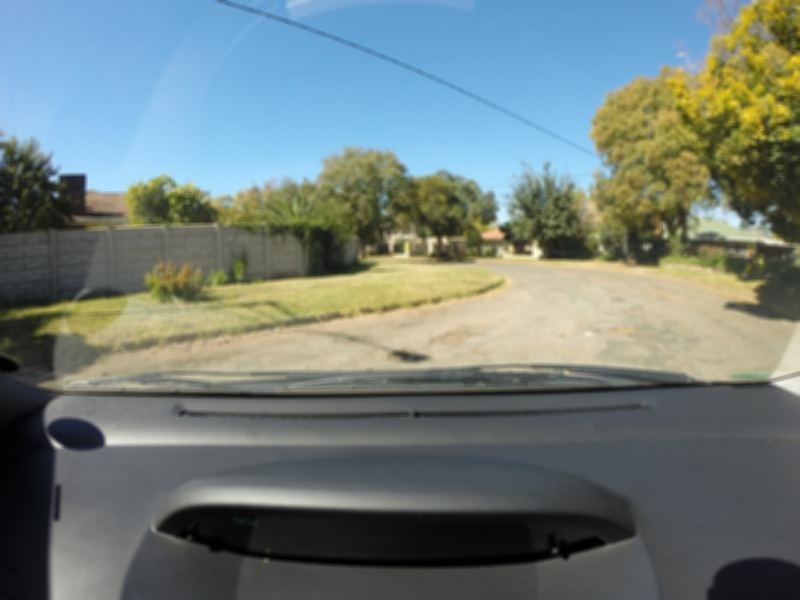pothole: (421, 314, 476, 351), (333, 331, 387, 349), (606, 320, 646, 339)
